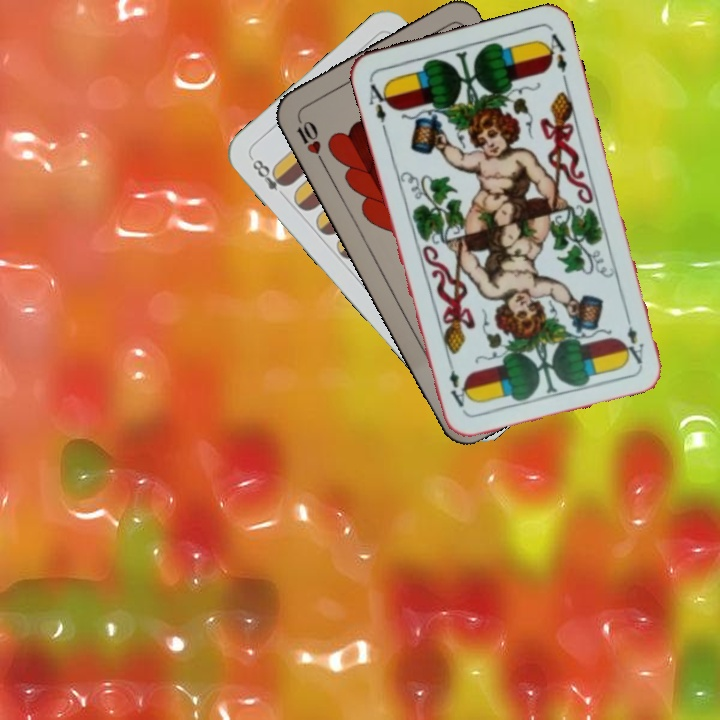E8: (247, 153, 291, 202)
EA: (365, 76, 394, 135), (620, 308, 647, 367)
H10: (292, 111, 327, 166)
